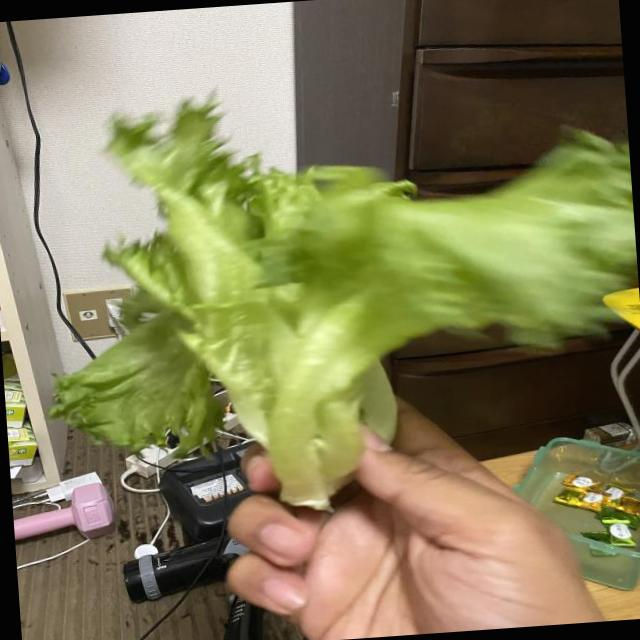Lettuce-Ready-to-Harvest: (53, 100, 638, 507)
